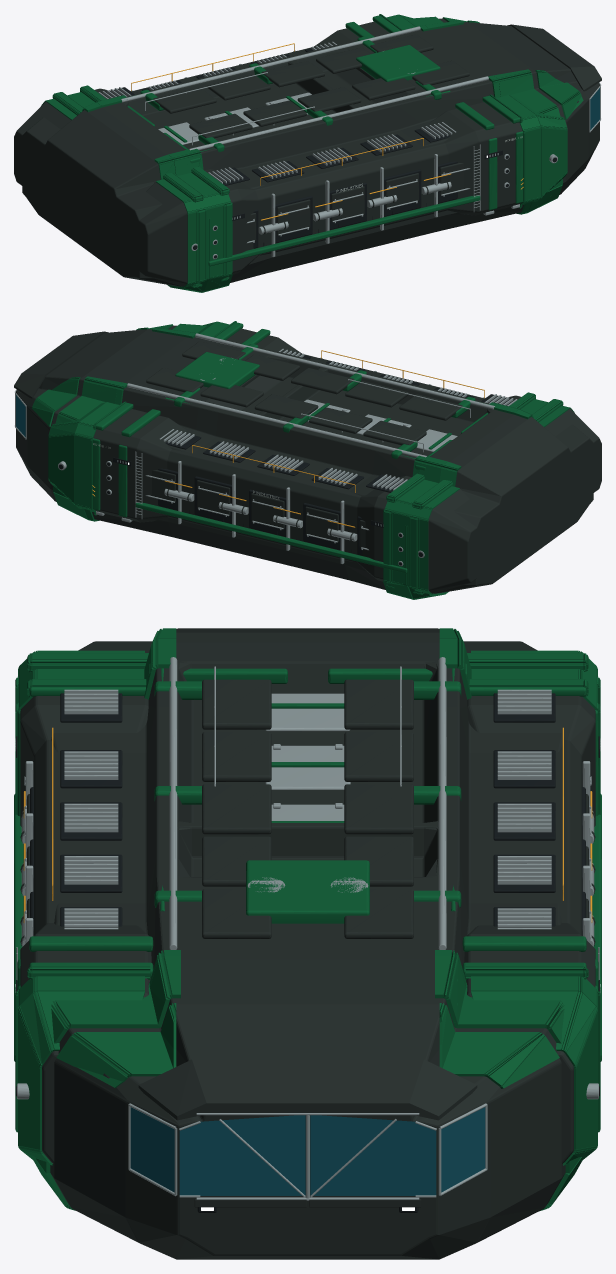
File: pioneer-study.glb
The picture shows the model from 3 angles, top to bottom: view 1: azimuth 30°, elevation 25°; view 2: azimuth 150°, elevation 25°; view 3: azimuth 270°, elevation 25°; orthographic projection. The views are drawn at different scales.
Parts seen in each view (by area): view 1: Graphite ceramic armor, Emerald structural frames, Titanium machinery, Recessed carbon, Safety amber; view 2: Graphite ceramic armor, Emerald structural frames, Titanium machinery, Recessed carbon, Safety amber; view 3: Graphite ceramic armor, Emerald structural frames, Titanium machinery, Navigation glass, Recessed carbon, Safety amber.
Part boxes in pixels (box(x1,y1,x2,y2)): Graphite ceramic armor: box(14, 18, 601, 286); Emerald structural frames: box(41, 14, 583, 292); Titanium machinery: box(98, 26, 600, 259); Recessed carbon: box(101, 45, 556, 258); Safety amber: box(131, 43, 523, 220); Graphite ceramic armor: box(14, 325, 601, 593); Emerald structural frames: box(31, 321, 574, 599); Titanium machinery: box(15, 333, 517, 566); Recessed carbon: box(59, 352, 514, 565); Safety amber: box(92, 350, 484, 527); Graphite ceramic armor: box(20, 628, 595, 1259); Emerald structural frames: box(14, 628, 601, 1211); Titanium machinery: box(15, 657, 600, 1200); Navigation glass: box(130, 1107, 485, 1195); Recessed carbon: box(16, 693, 599, 1212); Safety amber: box(23, 727, 592, 922).
Size of the model in its own units: 72 by 18 by 38.
